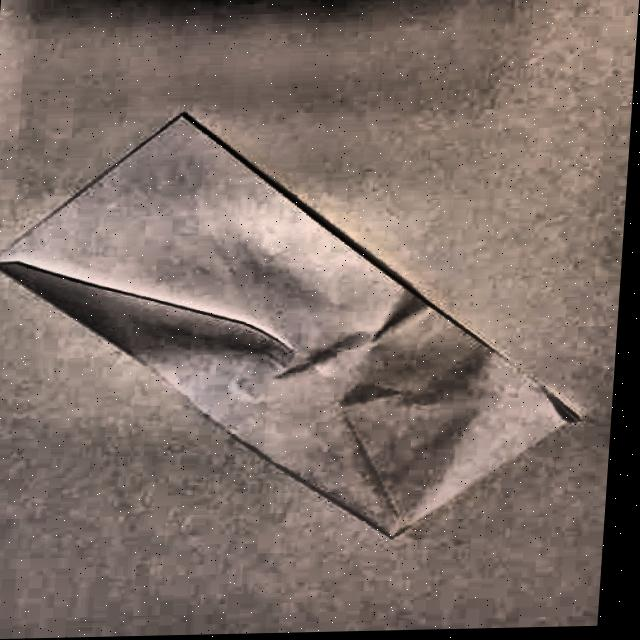paper: (0, 103, 603, 550)
